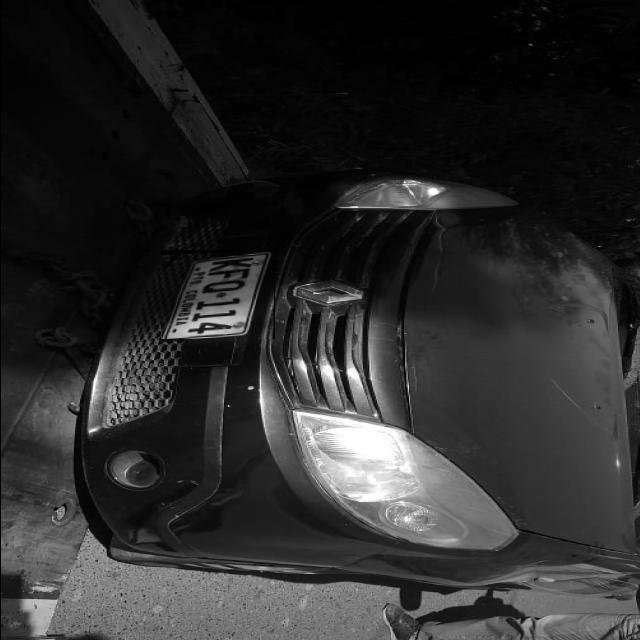plate: (160, 251, 274, 339)
